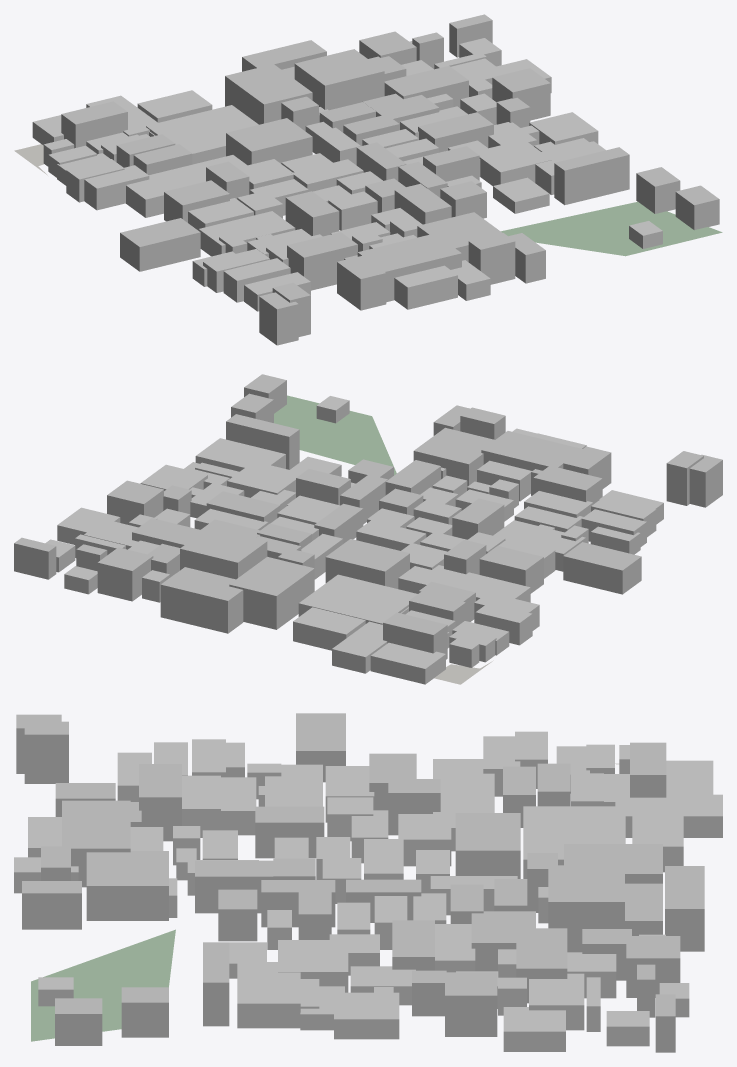
Rendered from 112_104_mid.glb.
3 renders of one model, top to bottom at view 1: azimuth 30°, elevation 25°; view 2: azimuth 150°, elevation 25°; view 3: azimuth 270°, elevation 25°, orthographic. The views are drawn at different scales.
Size of the model in its own units: 548 by 48.09 by 537.
